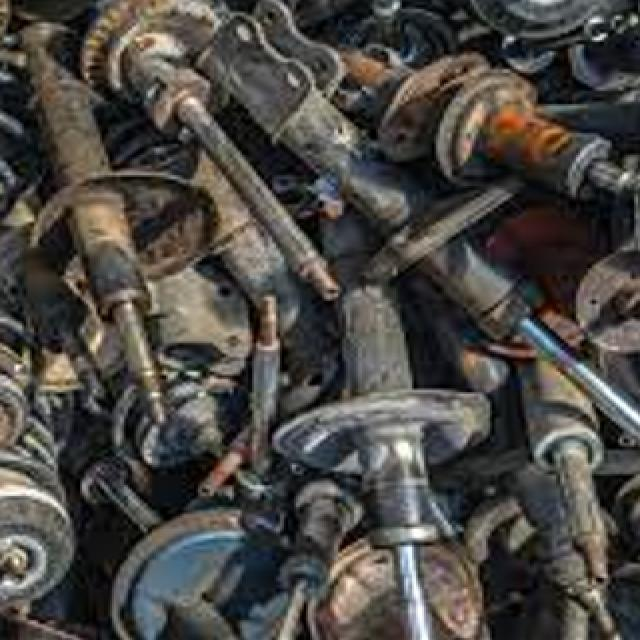shock absorber: (200, 1, 638, 440), (270, 209, 491, 638), (2, 22, 221, 429)
